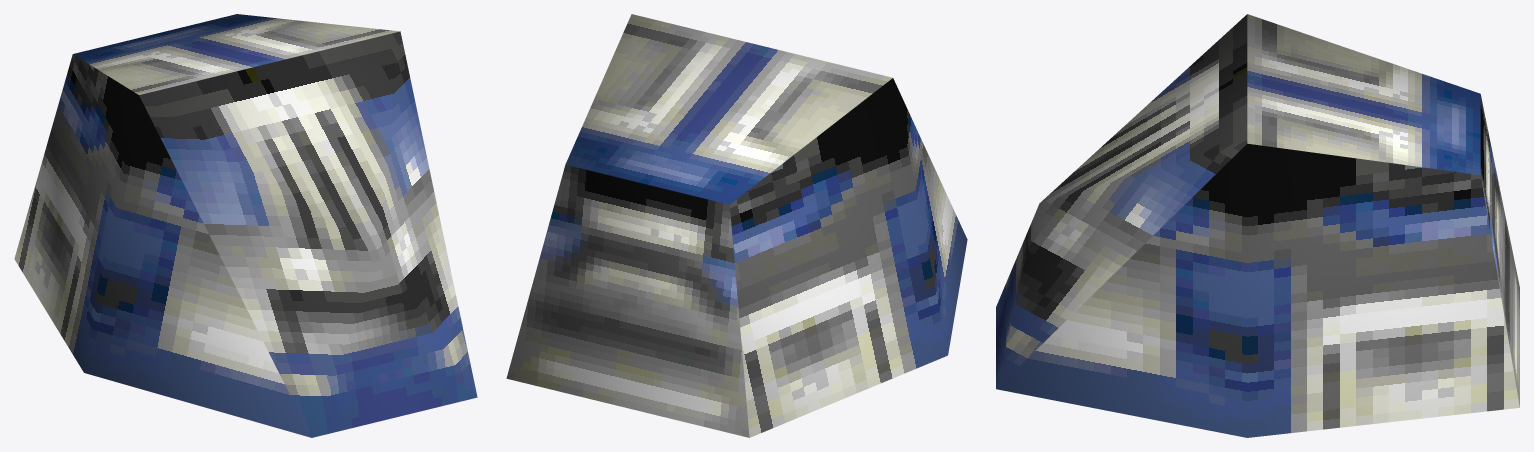
File: MissileCarX_Anim.glb
The picture shows the model from 3 angles, left to right: view 1: azimuth 30°, elevation 25°; view 2: azimuth 150°, elevation 25°; view 3: azimuth 270°, elevation 25°; orthographic projection.
Visible parts, largest first — view 1: MissileCarX_Skel_part00; view 2: MissileCarX_Skel_part00; view 3: MissileCarX_Skel_part00.
Boxes of the visible parts, bbox=[...] form: MissileCarX_Skel_part00: bbox=[14, 14, 477, 437]; MissileCarX_Skel_part00: bbox=[506, 14, 967, 437]; MissileCarX_Skel_part00: bbox=[996, 14, 1519, 437].
Bounding box in the file's own units: 7.58 × 5.2 × 9.19.
4 materials, 4 textured.
